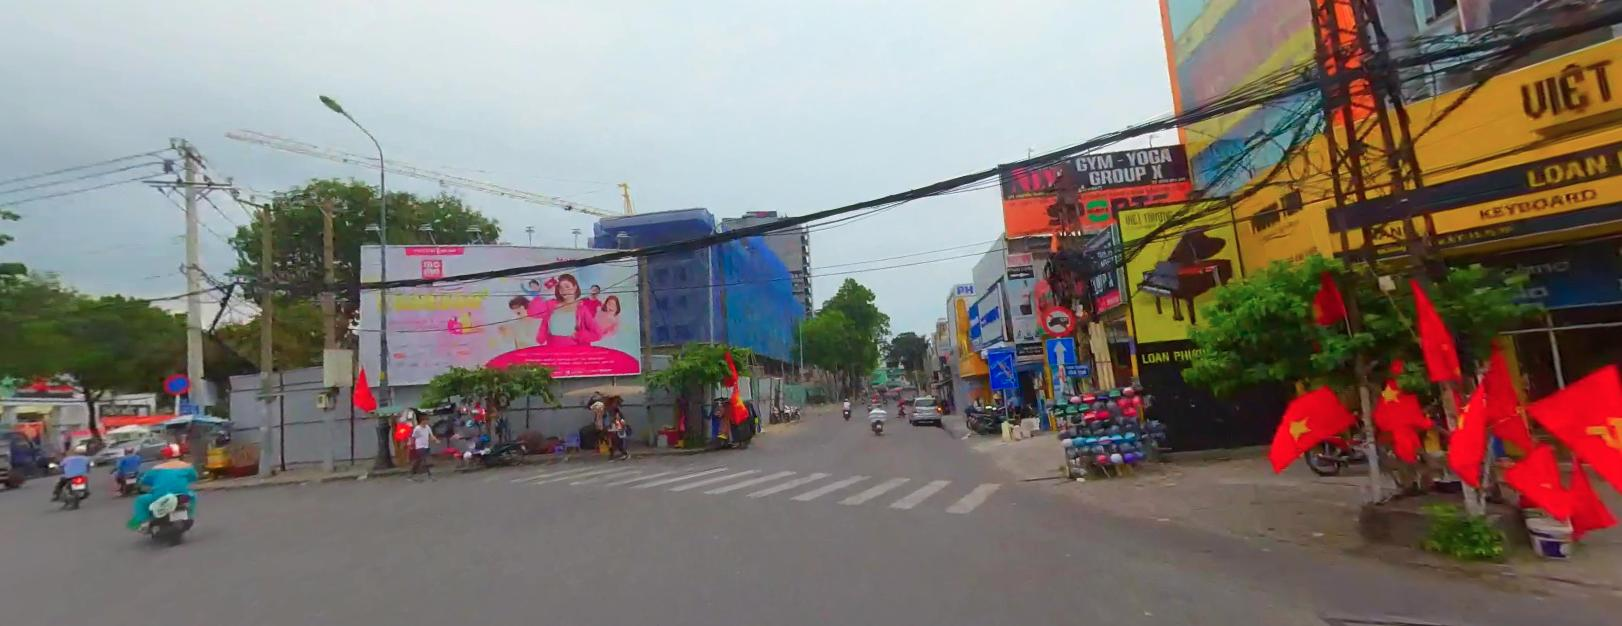Cam con lai: (1042, 305, 1075, 335)
Cam dung va do: (163, 371, 189, 393)
